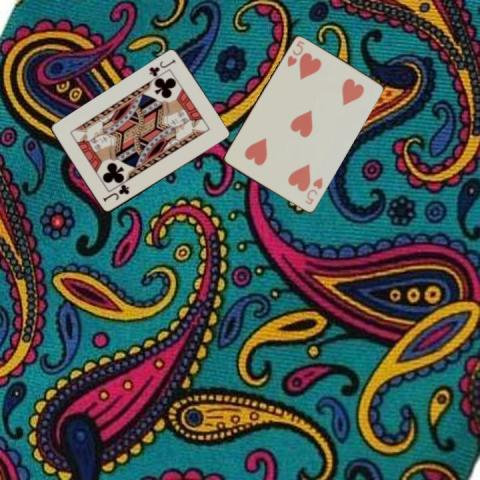5h: (302, 174, 324, 206), (284, 38, 306, 69)
Jc: (146, 56, 177, 78), (100, 183, 131, 204)
